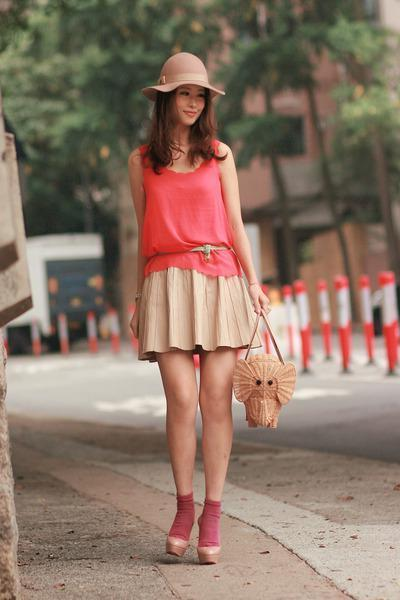short sleeve shirt: (137, 135, 247, 278)
skirt: (133, 249, 268, 360)
